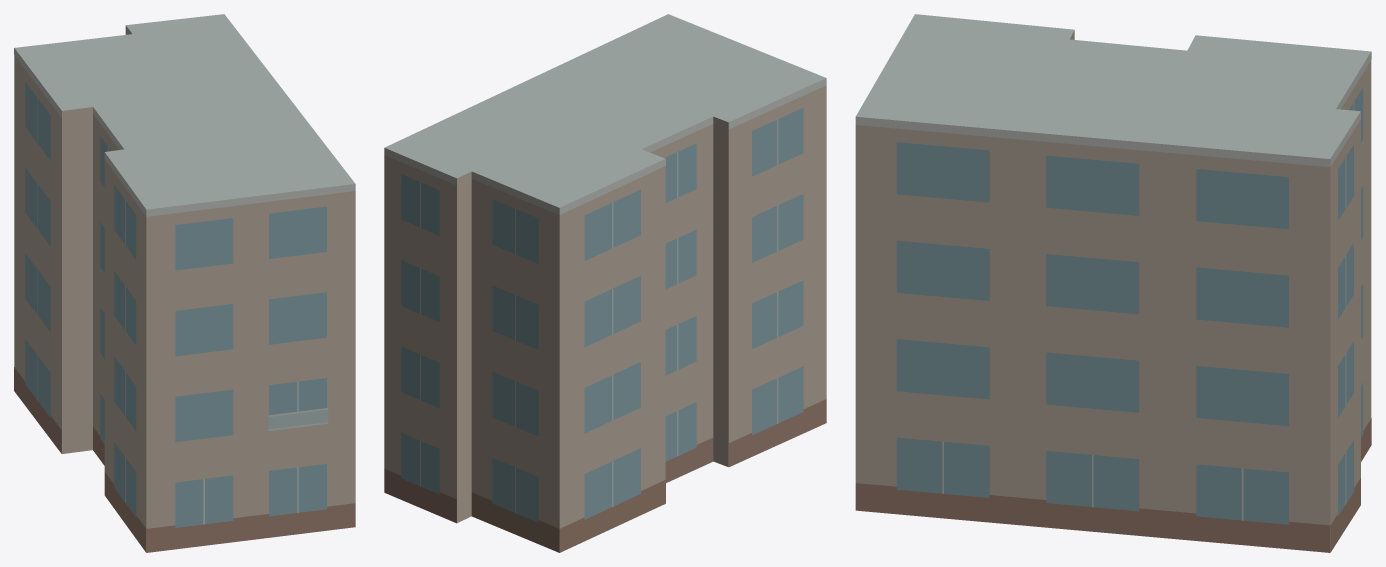
The model's file is survey-upis-32909241.glb.
3 renders of one model, left to right at view 1: azimuth 30°, elevation 25°; view 2: azimuth 150°, elevation 25°; view 3: azimuth 270°, elevation 25°, orthographic. The views are drawn at different scales.
Parts seen in each view (by area): view 1: survey-upis-32909241.tmp; view 2: survey-upis-32909241.tmp; view 3: survey-upis-32909241.tmp.
Boxes of the visible parts, bbox=[...] form: survey-upis-32909241.tmp: bbox=[14, 14, 355, 552]; survey-upis-32909241.tmp: bbox=[384, 14, 826, 552]; survey-upis-32909241.tmp: bbox=[855, 14, 1371, 552].
Size of the model in its own units: 9.29 by 11.75 by 13.96.
